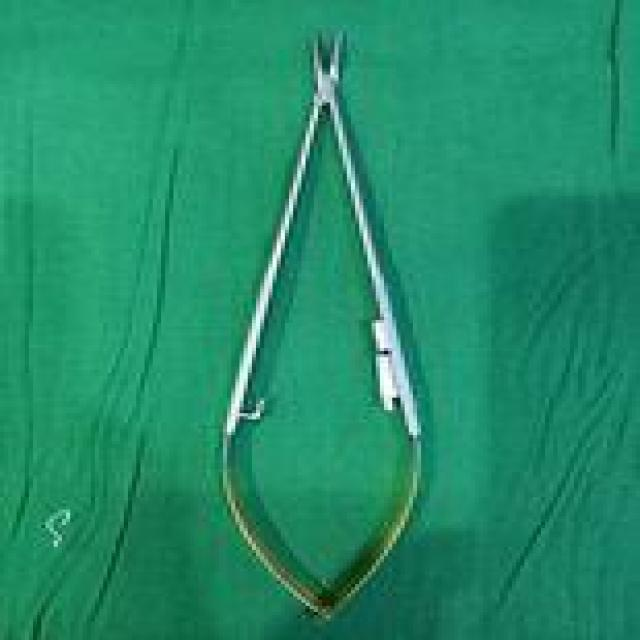Castroviejo: (210, 25, 438, 628)
